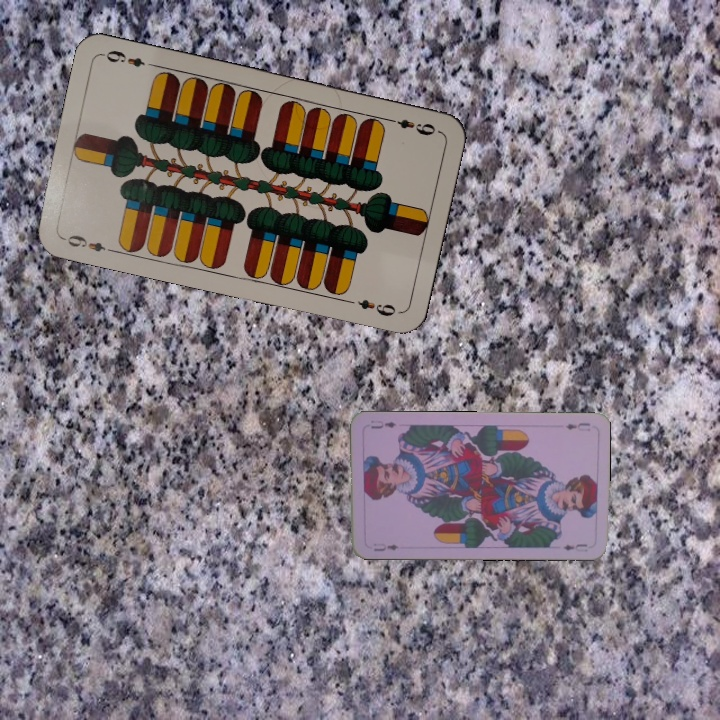E9: (59, 230, 117, 255), (382, 114, 438, 138)
EU: (369, 539, 405, 553), (562, 418, 592, 434)
